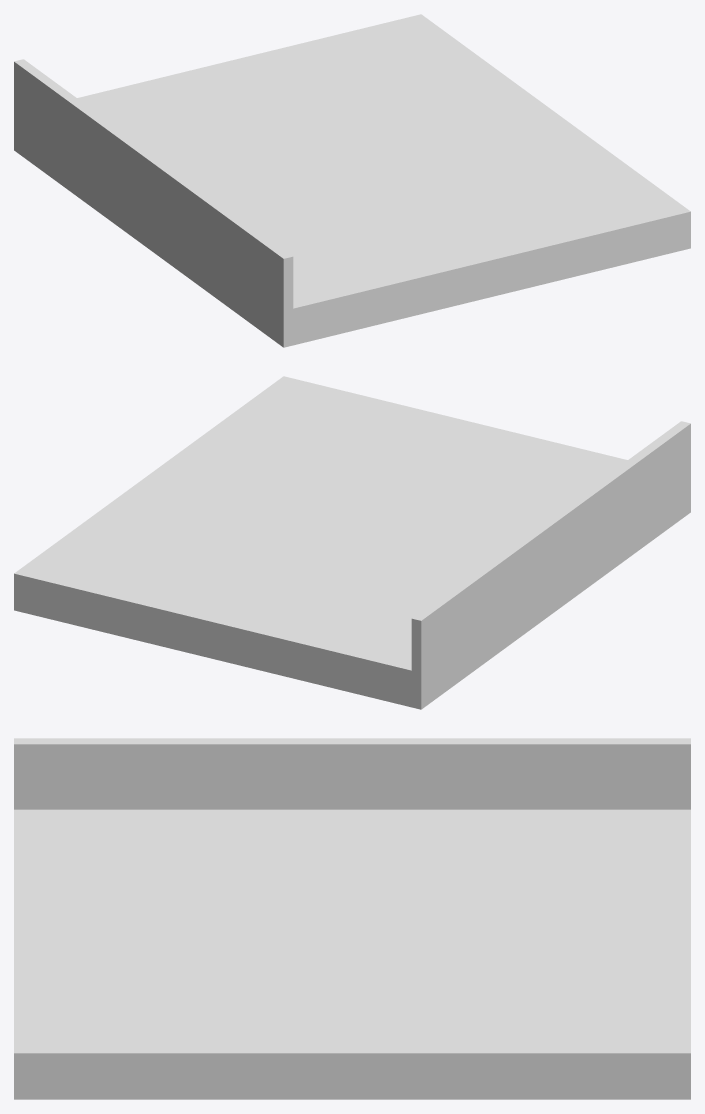
Rendered from Itr_Bed_Bunk2_Sidebed_04.FBX.
3 renders of one model, top to bottom at view 1: azimuth 30°, elevation 25°; view 2: azimuth 150°, elevation 25°; view 3: azimuth 270°, elevation 25°, orthographic. The views are drawn at different scales.
Parts seen in each view (by area): view 1: Itr_Bed_Bunk2_Sidebed_04; view 2: Itr_Bed_Bunk2_Sidebed_04; view 3: Itr_Bed_Bunk2_Sidebed_04.
Part boxes in pixels (x1,y1,x2,y2): Itr_Bed_Bunk2_Sidebed_04: [14, 14, 690, 347]; Itr_Bed_Bunk2_Sidebed_04: [14, 376, 690, 709]; Itr_Bed_Bunk2_Sidebed_04: [14, 738, 690, 1099].
Bounding box in the file's own units: 77.24 × 16.11 × 88.6.
